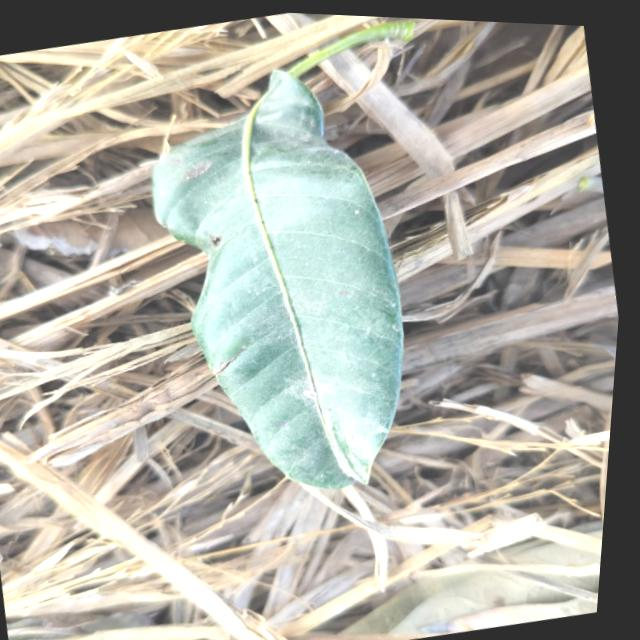gall midge: (84, 34, 465, 550)
